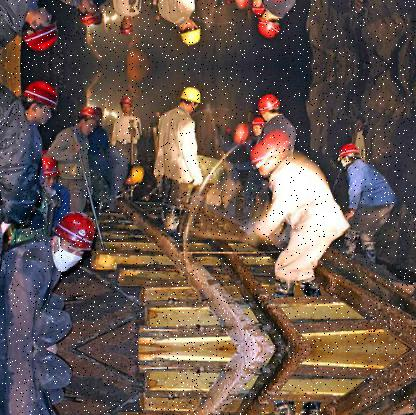helmet: (47, 207, 101, 266), (22, 77, 61, 123), (22, 7, 61, 53), (249, 138, 288, 178), (36, 150, 61, 187), (256, 92, 284, 122), (256, 8, 284, 38), (179, 85, 203, 114), (179, 17, 203, 46), (337, 143, 364, 168), (123, 163, 147, 187), (80, 104, 100, 128), (80, 2, 100, 26), (119, 95, 138, 118), (119, 13, 138, 36), (251, 114, 267, 136), (250, 0, 267, 17)
